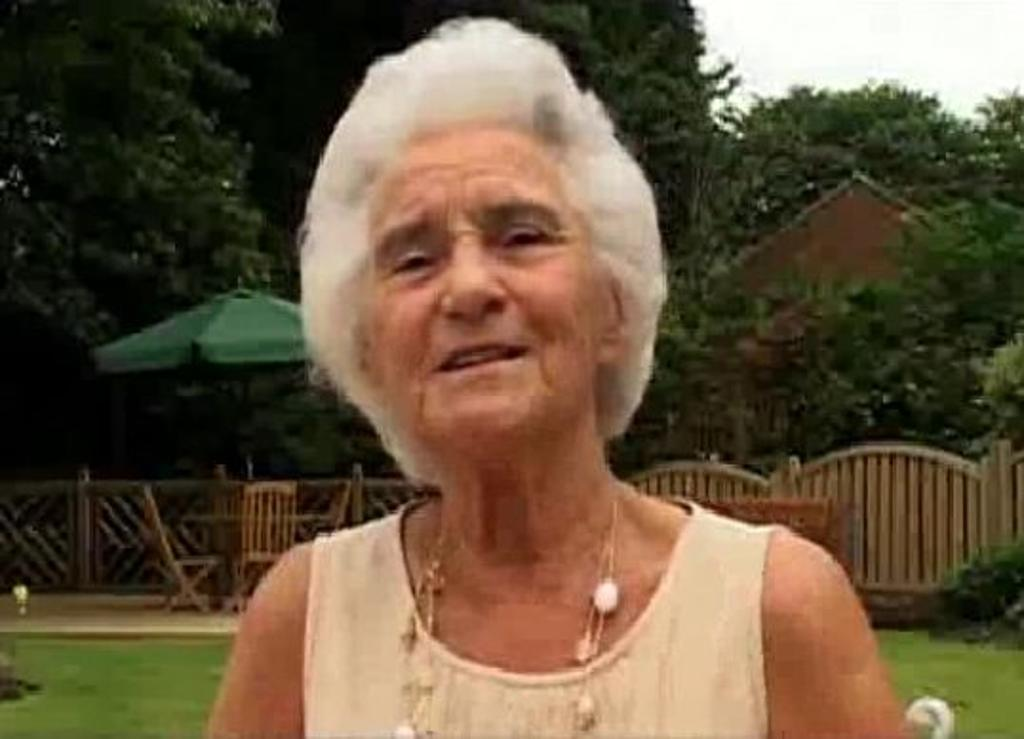face: (354, 162, 602, 432)
